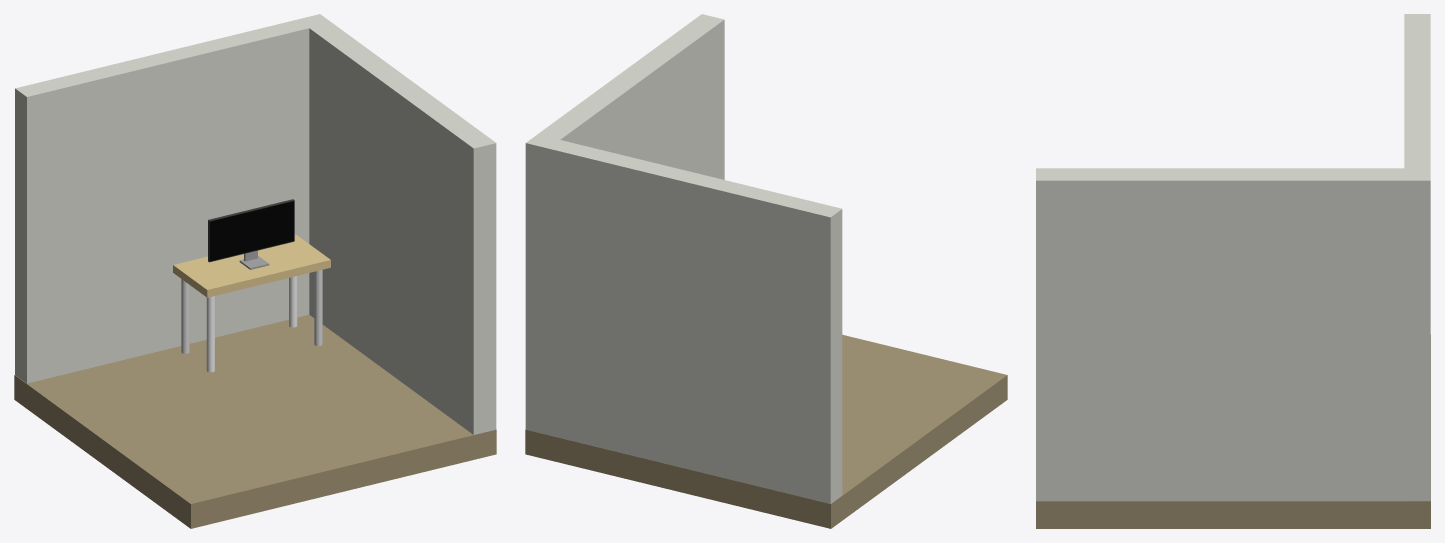
File: bedroom.glb
3 views of the same model, side by side, from view 1: azimuth 30°, elevation 25°; view 2: azimuth 150°, elevation 25°; view 3: azimuth 270°, elevation 25° (orthographic). The views are drawn at different scales.
Visible parts, largest first — view 1: wall2, floor, wall1, deskTop, monitor, deskLeg2, deskLeg4, deskLeg1; view 2: wall2, floor, wall1; view 3: wall1, wall2, floor.
Boxes of the visible parts, bbox=[...] form: wall2: bbox=[15, 14, 331, 383]; floor: bbox=[14, 314, 496, 528]; wall1: bbox=[309, 22, 496, 434]; deskTop: bbox=[173, 235, 330, 297]; monitor: bbox=[208, 199, 294, 269]; deskLeg2: bbox=[206, 296, 214, 372]; deskLeg4: bbox=[314, 270, 322, 345]; deskLeg1: bbox=[181, 279, 189, 353]; wall2: bbox=[525, 134, 842, 503]; floor: bbox=[525, 334, 1007, 528]; wall1: bbox=[537, 14, 724, 179]; wall1: bbox=[1036, 168, 1404, 501]; wall2: bbox=[1404, 14, 1430, 500]; floor: bbox=[1036, 334, 1430, 528].
Size of the model in its own units: 4 by 3.89 by 4.
